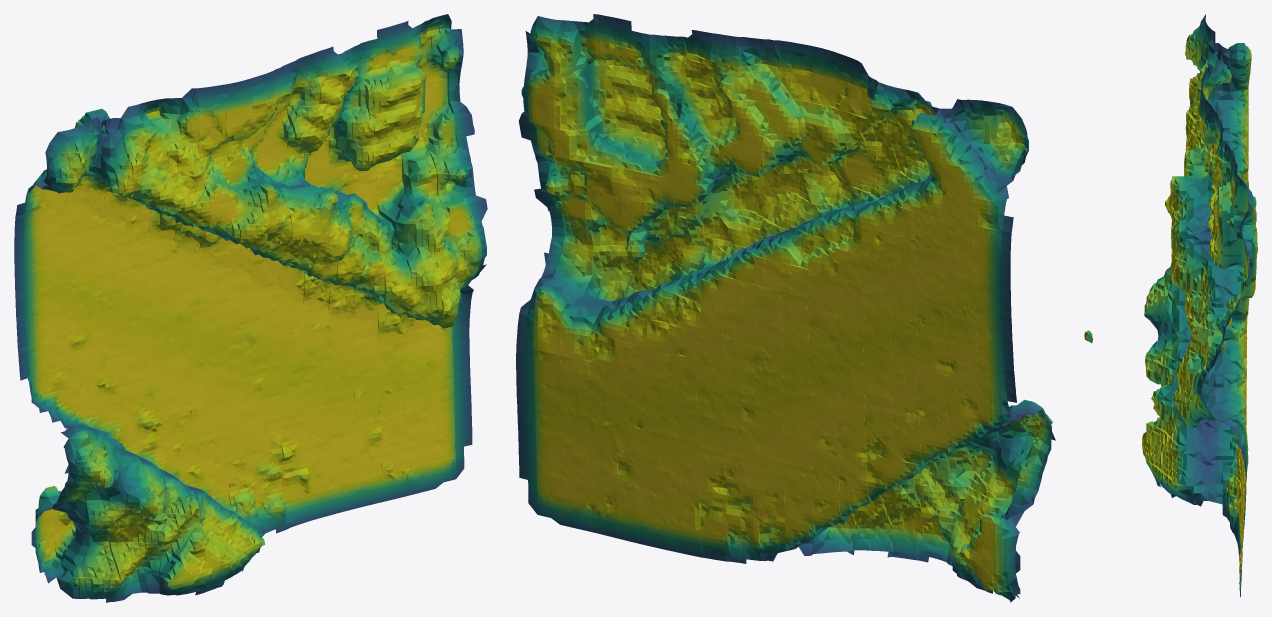
Rendered from houses.obj.
The picture shows the model from 3 angles, left to right: view 1: azimuth 30°, elevation 25°; view 2: azimuth 150°, elevation 25°; view 3: azimuth 270°, elevation 25°; orthographic projection. The views are drawn at different scales.
Size of the model in its own units: 110 by 110 by 41.19.
